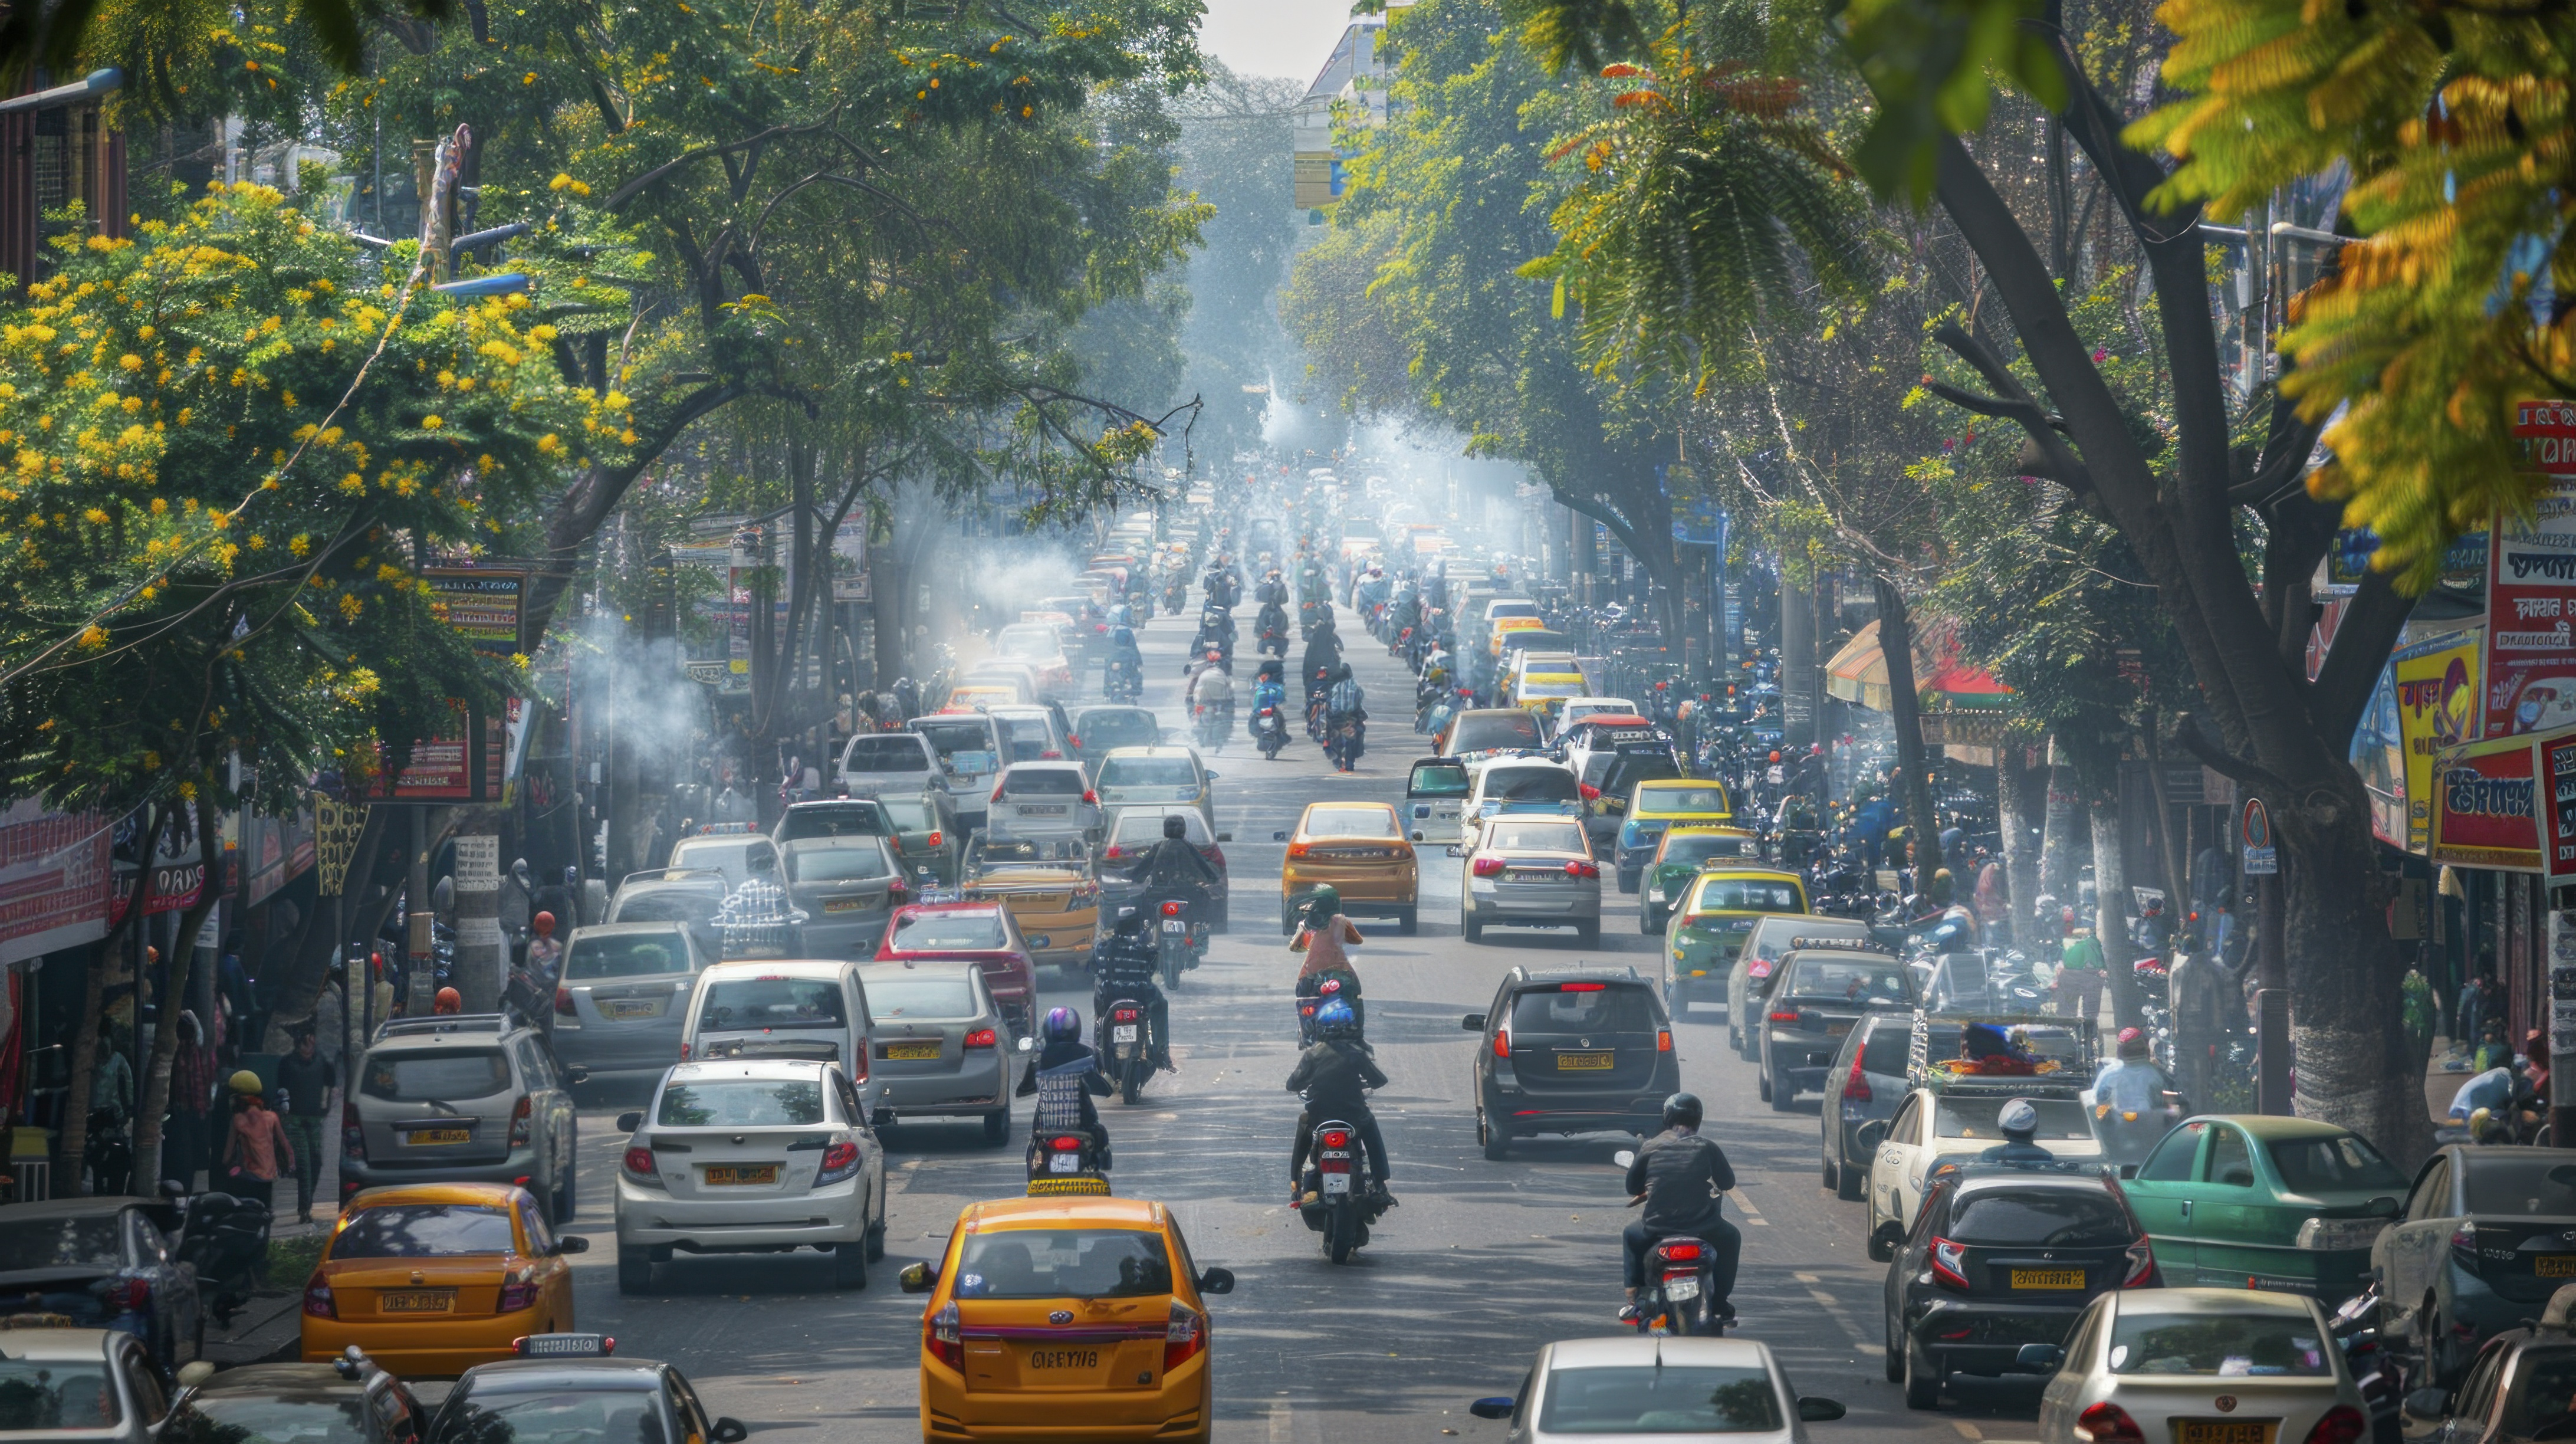bike: (1197, 524, 1337, 744), (1296, 1022, 1391, 1251), (1625, 1114, 1719, 1318), (1023, 1012, 1101, 1176), (1103, 909, 1160, 1075), (1148, 824, 1200, 959)
car: (935, 1211, 1204, 1425), (2, 1185, 236, 1425), (1904, 1174, 2149, 1393), (2078, 1265, 2321, 1436), (629, 1091, 870, 1263), (345, 1018, 560, 1192), (2154, 1117, 2393, 1270), (1862, 1062, 2104, 1195), (1755, 937, 1921, 1095), (331, 1221, 546, 1334), (1577, 1322, 1774, 1444), (1488, 972, 1648, 1123), (1658, 855, 1799, 999), (1455, 807, 1587, 946), (869, 956, 988, 1108), (546, 931, 692, 1051), (1826, 1013, 2022, 1097), (475, 1364, 657, 1444), (902, 878, 1054, 972), (1282, 795, 1412, 900), (701, 963, 843, 1056), (609, 850, 770, 930), (791, 802, 886, 928), (1624, 787, 1726, 879), (992, 765, 1086, 843), (1089, 760, 1217, 813), (938, 723, 995, 793), (1521, 668, 1571, 715)
person: (203, 1018, 305, 1200)
scooty: (1297, 885, 1356, 992)
